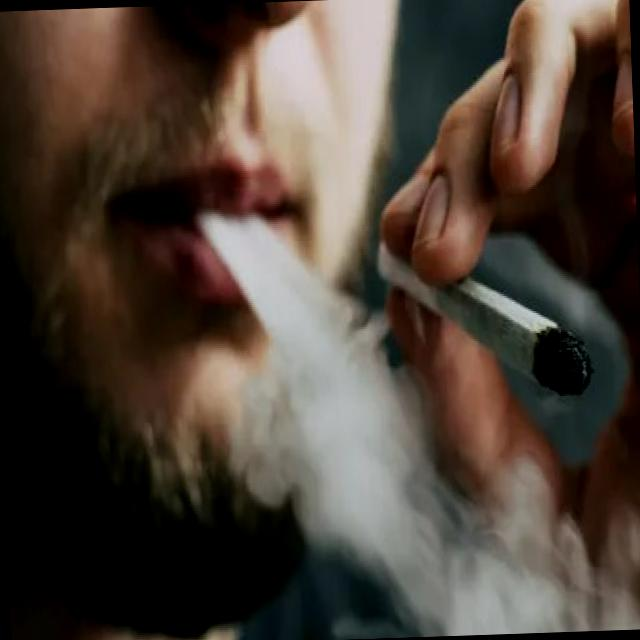cigarette: (372, 221, 596, 408)
